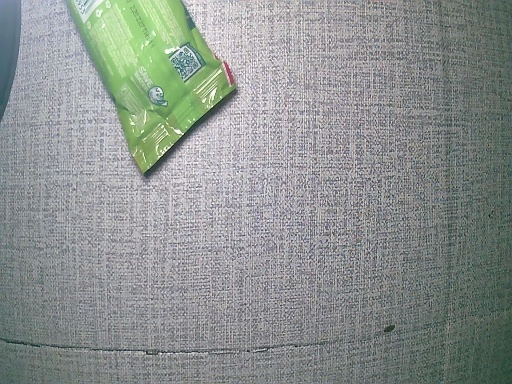plastic: (63, 1, 240, 177)
